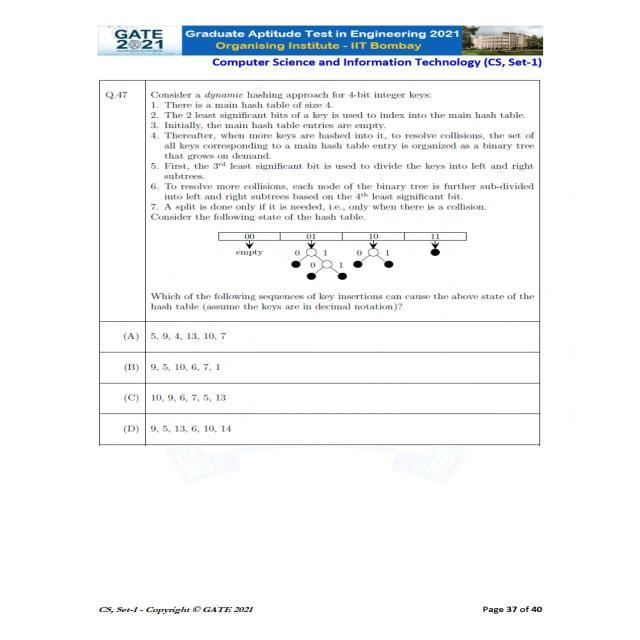Answer_Block: (94, 324, 539, 442)
Question_Answer_Block: (98, 82, 536, 442)
Question_Block: (96, 79, 536, 324)
Question_Paper_Area: (98, 84, 540, 444)
